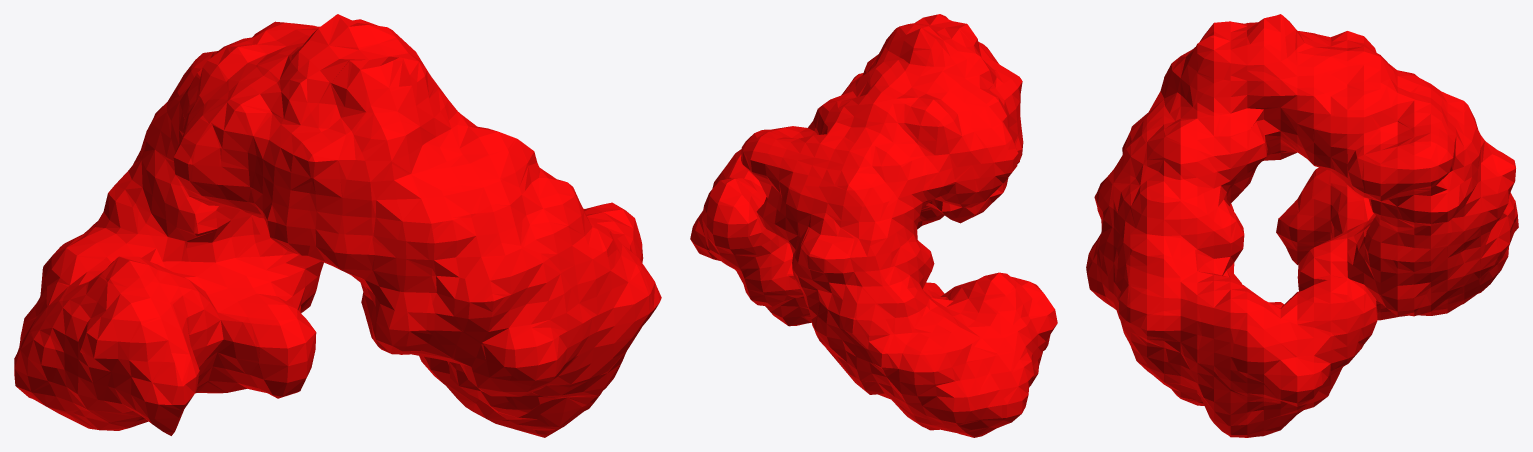
Rendered from cyaA_coarse.dae.
The picture shows the model from 3 angles, left to right: view 1: azimuth 30°, elevation 25°; view 2: azimuth 150°, elevation 25°; view 3: azimuth 270°, elevation 25°; orthographic projection. The views are drawn at different scales.
Parts seen in each view (by area): view 1: cyaA; view 2: cyaA; view 3: cyaA.
Boxes of the visible parts, left/top/right/bottom form: cyaA: left=14, top=14, right=661, bottom=437; cyaA: left=690, top=14, right=1057, bottom=437; cyaA: left=1086, top=14, right=1518, bottom=437.
Bounding box in the file's own units: 103 × 84.81 × 93.51.
